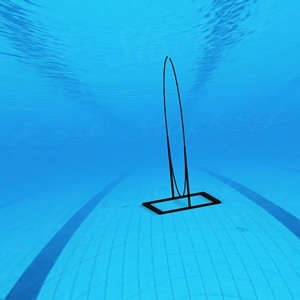circle: (139, 54, 225, 217)
